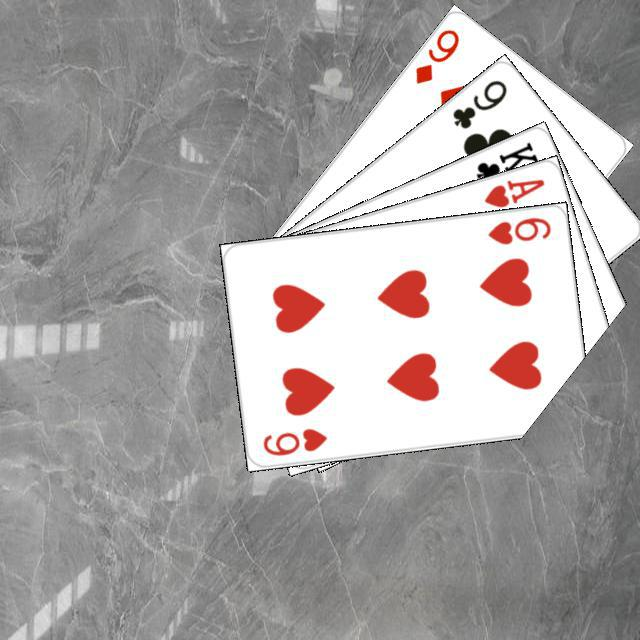6h: (258, 423, 329, 458), (483, 212, 553, 246)
9c: (447, 75, 509, 131)
9d: (410, 24, 462, 86)
Ah: (479, 174, 546, 210)
Kc: (470, 136, 541, 196)
